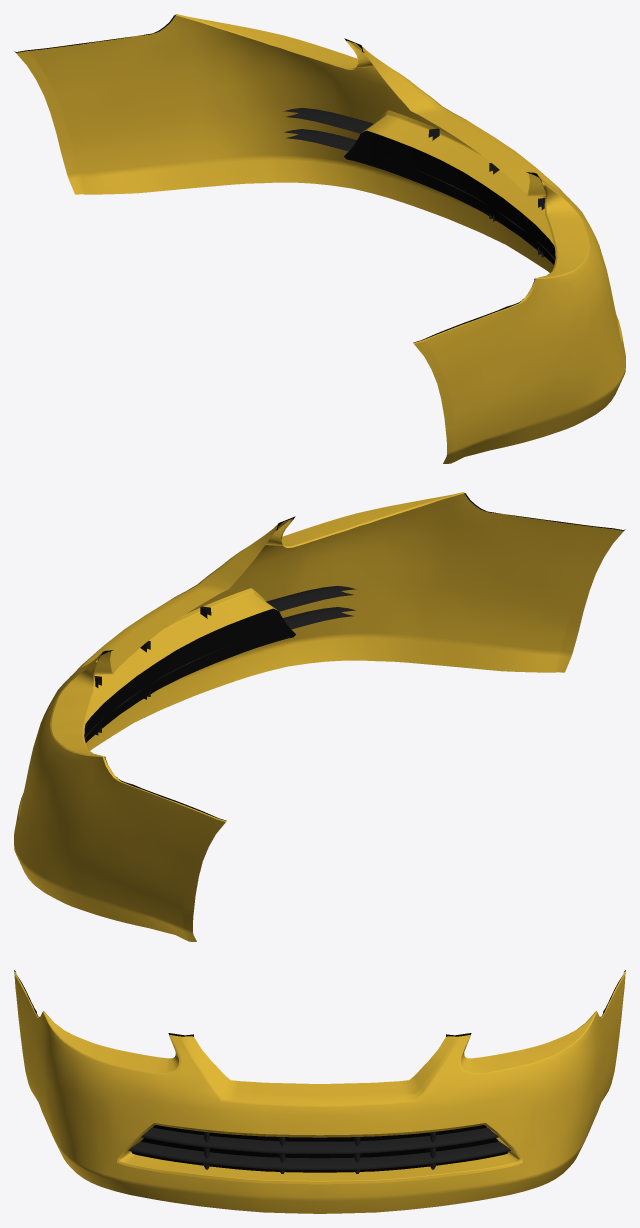
3 views of the same model, one above another, from view 1: azimuth 30°, elevation 25°; view 2: azimuth 150°, elevation 25°; view 3: azimuth 270°, elevation 25° (orthographic). The views are drawn at different scales.
Visible parts, largest first — view 1: P353_20_021G_C_1_DaS_P353_20_021G_C, P353_20_021G_C_P353_20_021G_C_2_D, P353_20_021G_C_P353_20_021G_C_4_D, P353_20_021G_C_1_DaS_P353_20_021G_C_E; view 2: P353_20_021G_C_1_DaS_P353_20_021G_C, P353_20_021G_C_P353_20_021G_C_2_D, P353_20_021G_C_P353_20_021G_C_4_D, P353_20_021G_C_1_DaS_P353_20_021G_C_E; view 3: P353_20_021G_C_1_DaS_P353_20_021G_C, P353_20_021G_C_P353_20_021G_C_4_D, P353_20_021G_C_P353_20_021G_C_2_D, P353_20_021G_C_1_DaS_P353_20_021G_C_E.
Boxes of the visible parts, x1=… form: P353_20_021G_C_1_DaS_P353_20_021G_C: x1=16, y1=14, x2=625, y2=463; P353_20_021G_C_P353_20_021G_C_2_D: x1=344, y1=130, x2=555, y2=264; P353_20_021G_C_P353_20_021G_C_4_D: x1=283, y1=107, x2=555, y2=260; P353_20_021G_C_1_DaS_P353_20_021G_C_E: x1=43, y1=14, x2=622, y2=343; P353_20_021G_C_1_DaS_P353_20_021G_C: x1=14, y1=492, x2=623, y2=941; P353_20_021G_C_P353_20_021G_C_2_D: x1=84, y1=608, x2=295, y2=742; P353_20_021G_C_P353_20_021G_C_4_D: x1=84, y1=585, x2=356, y2=738; P353_20_021G_C_1_DaS_P353_20_021G_C_E: x1=17, y1=492, x2=596, y2=821; P353_20_021G_C_1_DaS_P353_20_021G_C: x1=14, y1=973, x2=625, y2=1213; P353_20_021G_C_P353_20_021G_C_4_D: x1=128, y1=1127, x2=511, y2=1173; P353_20_021G_C_P353_20_021G_C_2_D: x1=131, y1=1125, x2=508, y2=1172; P353_20_021G_C_1_DaS_P353_20_021G_C_E: x1=14, y1=971, x2=625, y2=1184.
Bounding box in the file's own units: 92.74 × 49.12 × 190.
